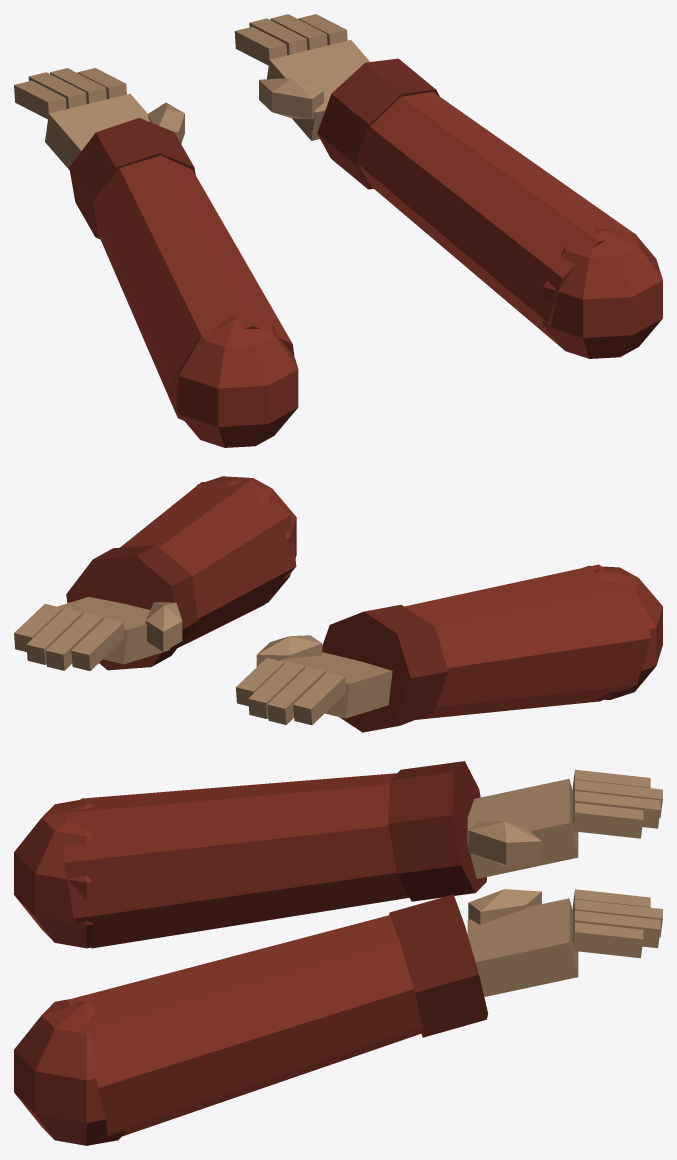
Rendered from tool_hands.glb.
3 renders of one model, top to bottom at view 1: azimuth 30°, elevation 25°; view 2: azimuth 150°, elevation 25°; view 3: azimuth 270°, elevation 25°, orthographic. The views are drawn at different scales.
Parts seen in each view (by area): view 1: HandR, HandL; view 2: HandL, HandR; view 3: HandR, HandL.
Part boxes in pixels (x1,y1,x2,y2): HandR: (234, 14, 662, 358); HandL: (14, 68, 298, 447); HandL: (236, 564, 662, 732); HandR: (14, 476, 296, 671); HandR: (14, 889, 662, 1145); HandL: (14, 761, 662, 948).
Bounding box in the file's own units: 0.4997 × 0.1868 × 0.5277.
